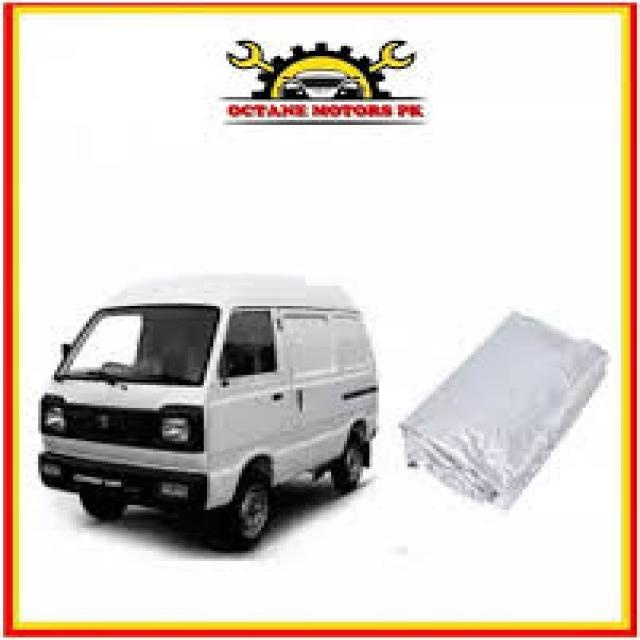Van: (35, 291, 382, 556)
